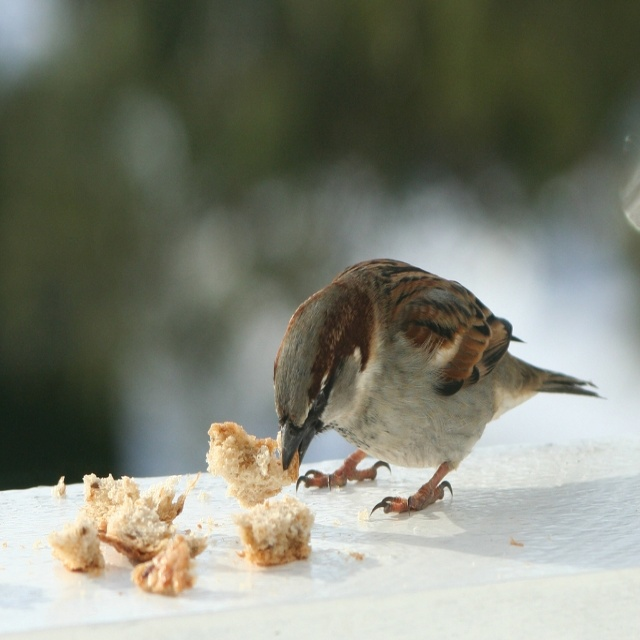Sparrow: (272, 255, 606, 513)
